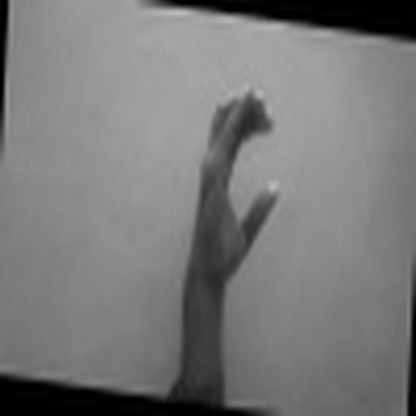c: (183, 79, 292, 275)
